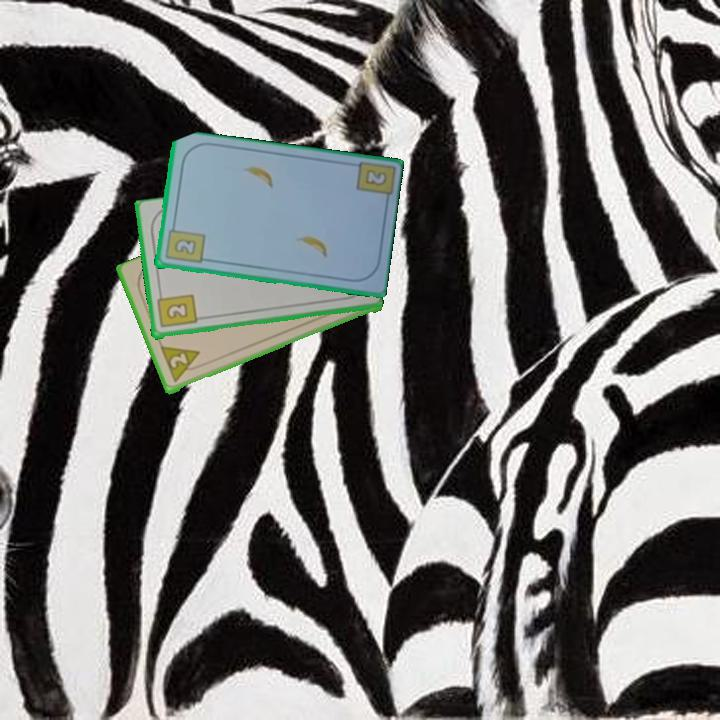2b: (162, 220, 207, 267), (154, 289, 199, 331), (361, 166, 390, 189)
2p: (157, 343, 206, 386)
